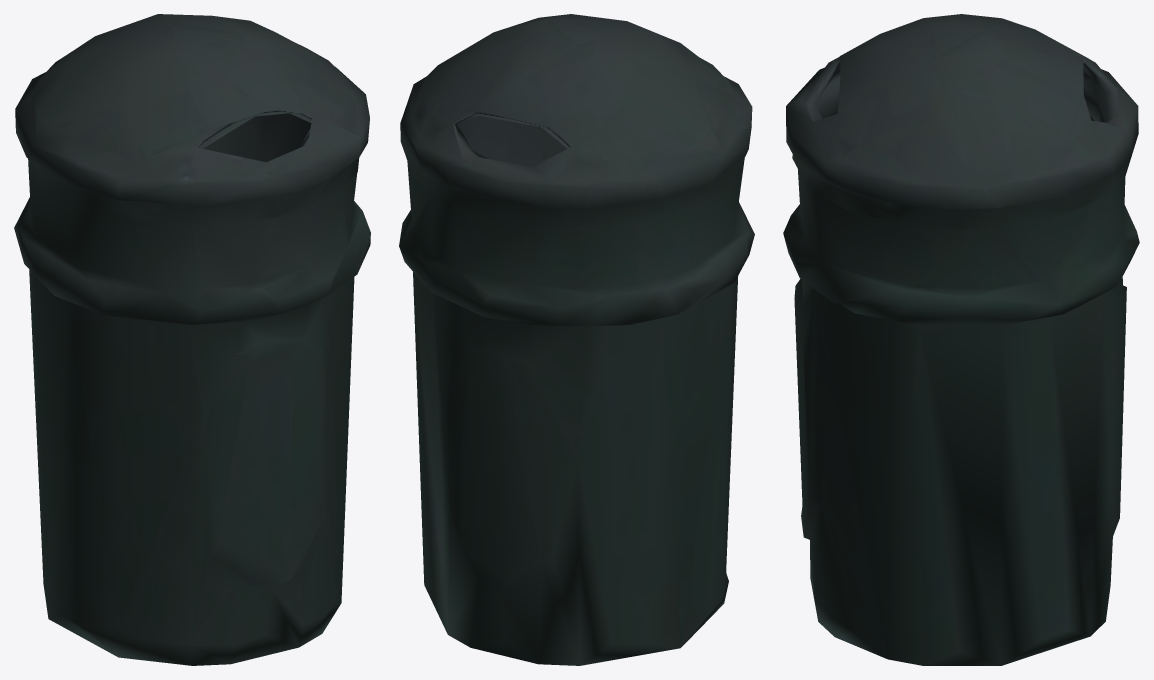
3 renders of one model, left to right at view 1: azimuth 30°, elevation 25°; view 2: azimuth 150°, elevation 25°; view 3: azimuth 270°, elevation 25°, orthographic.
Bounding box in the file's own units: 1.07 × 1.89 × 1.07.
Materials: 1 (1 with a texture image).
